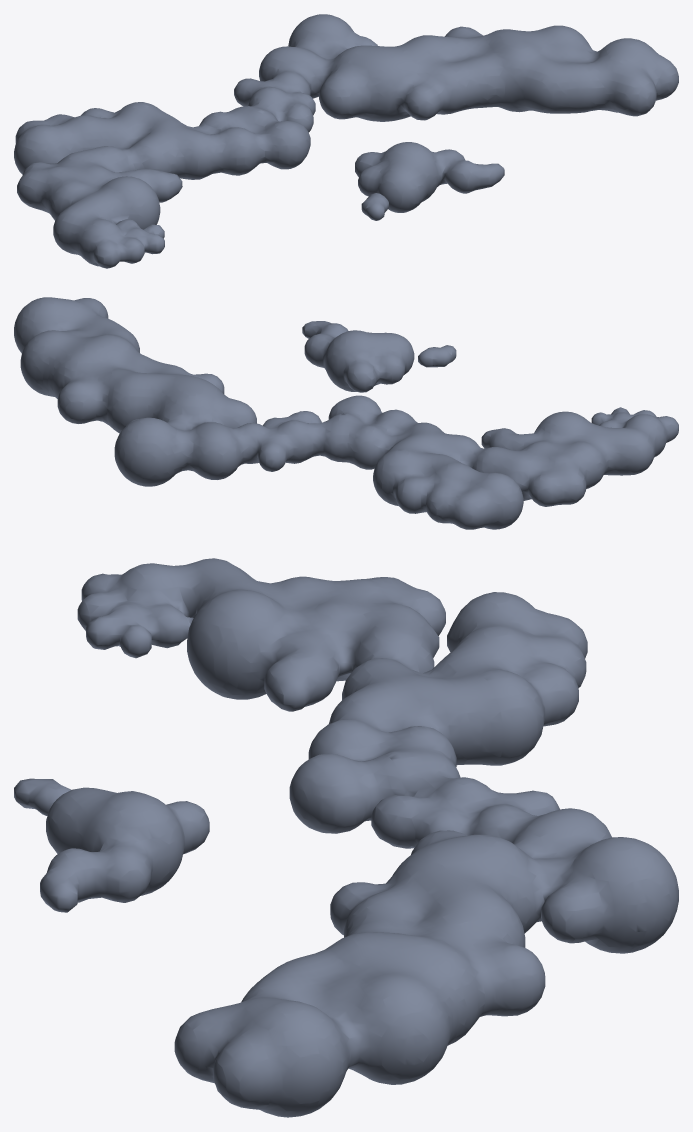
Rendered from Cloud_1.dae.
3 views of the same model, one above another, from view 1: azimuth 30°, elevation 25°; view 2: azimuth 150°, elevation 25°; view 3: azimuth 270°, elevation 25° (orthographic). The views are drawn at different scales.
Parts seen in each view (by area): view 1: Mball.090; view 2: Mball.090; view 3: Mball.090.
Boxes of the visible parts, x1=… form: Mball.090: x1=14, y1=14, x2=678, y2=268; Mball.090: x1=14, y1=297, x2=678, y2=529; Mball.090: x1=14, y1=558, x2=678, y2=1117.
Bounding box in the file's own units: 20.38 × 11.3 × 2.06.
